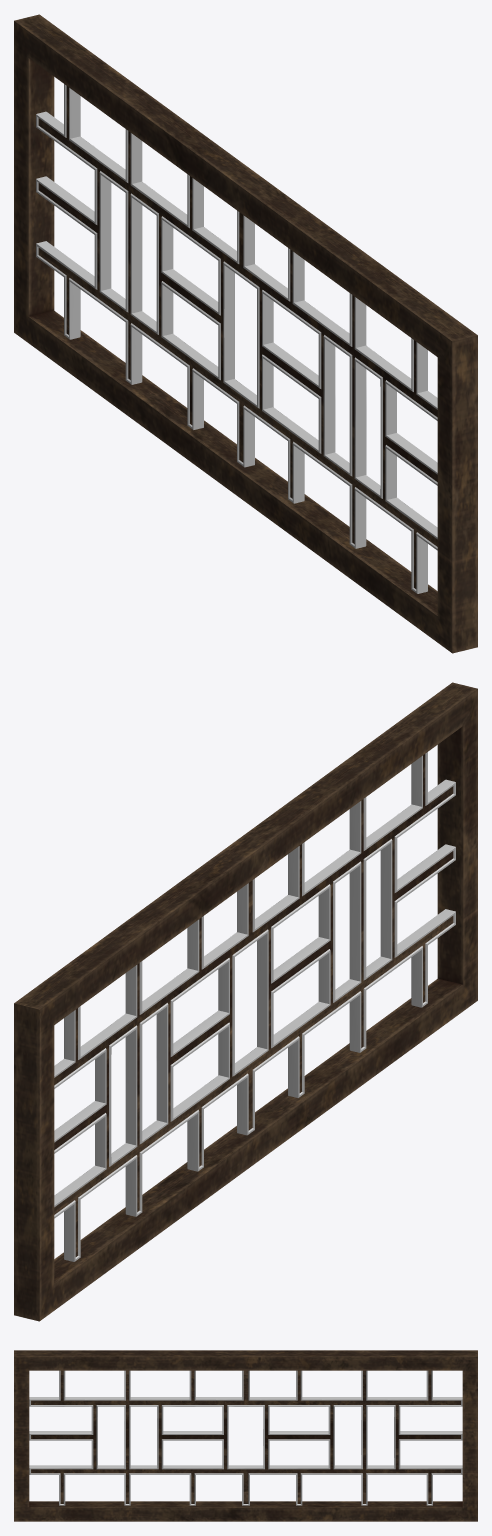
File: SM_Fence_06.fbx
The picture shows the model from 3 angles, top to bottom: view 1: azimuth 30°, elevation 25°; view 2: azimuth 150°, elevation 25°; view 3: azimuth 270°, elevation 25°; orthographic projection. The views are drawn at different scales.
Visible parts, largest first — view 1: SM_Fence_06_LOD0; view 2: SM_Fence_06_LOD0; view 3: SM_Fence_06_LOD0.
Boxes of the visible parts, x1,y1,x2,y2 form: SM_Fence_06_LOD0: (14,14,477,653); SM_Fence_06_LOD0: (14,682,477,1321); SM_Fence_06_LOD0: (14,1350,477,1521).
Bounding box in the file's own units: 10.06 × 299 × 117.
